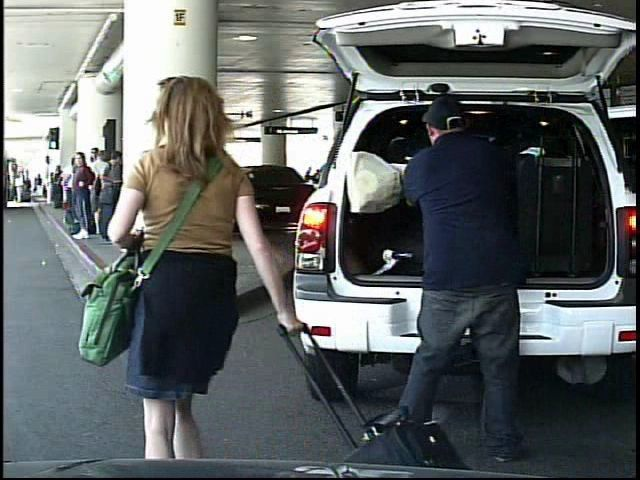person: (107, 75, 276, 459), (384, 91, 536, 457), (301, 166, 314, 196), (14, 174, 25, 204), (35, 173, 45, 200)
